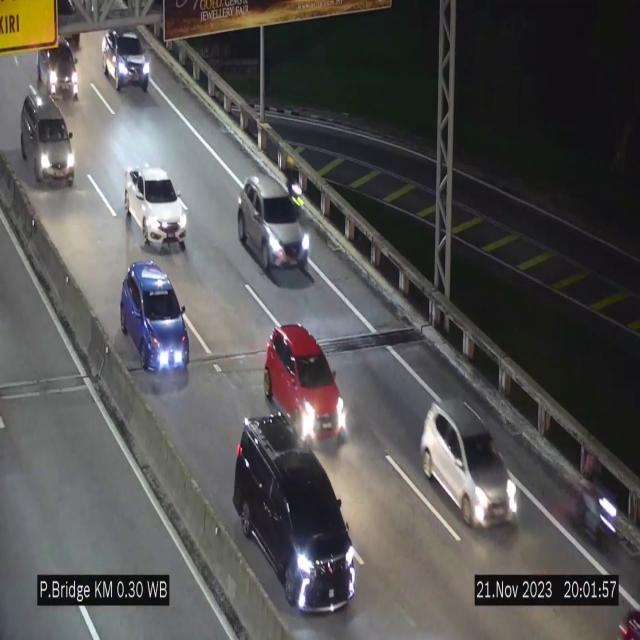Car: (241, 418, 359, 620), (421, 398, 519, 526), (266, 319, 349, 454), (120, 260, 190, 380), (237, 176, 312, 280), (125, 165, 187, 251), (20, 94, 75, 185), (34, 36, 84, 104), (104, 28, 150, 91)
Motorcycle: (568, 446, 618, 553), (282, 155, 304, 214)
